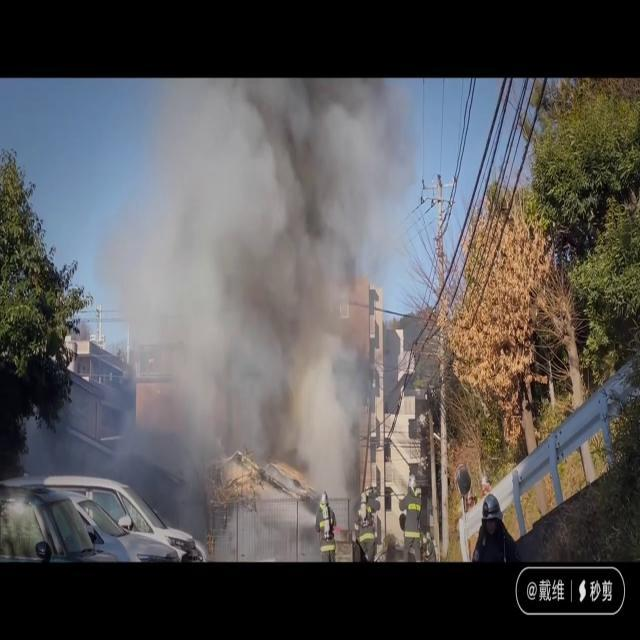Smoke: (86, 78, 402, 507)
